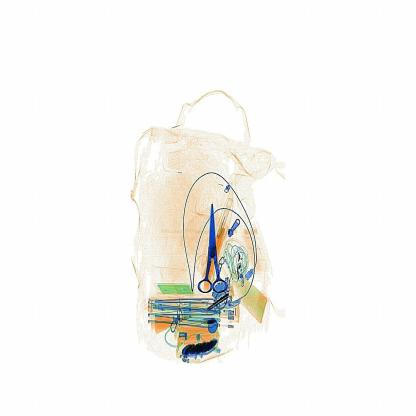gun: (192, 196, 232, 303)
